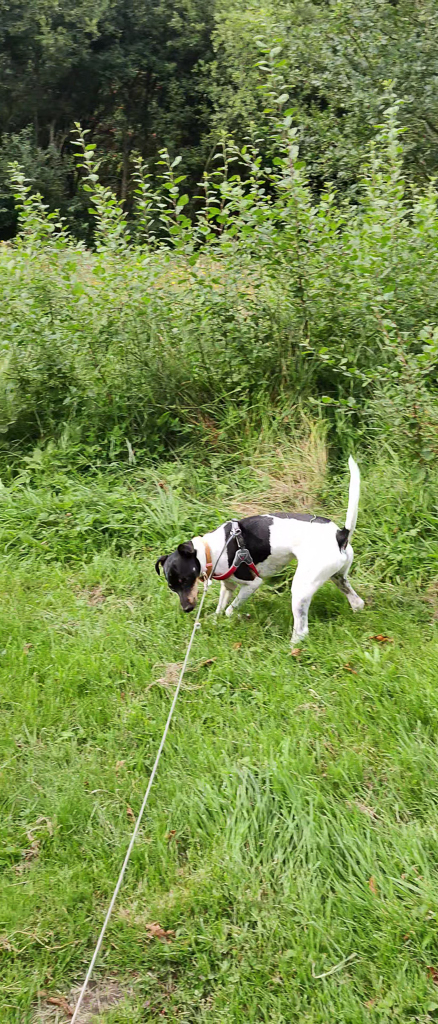Dog: (146, 447, 381, 657)
